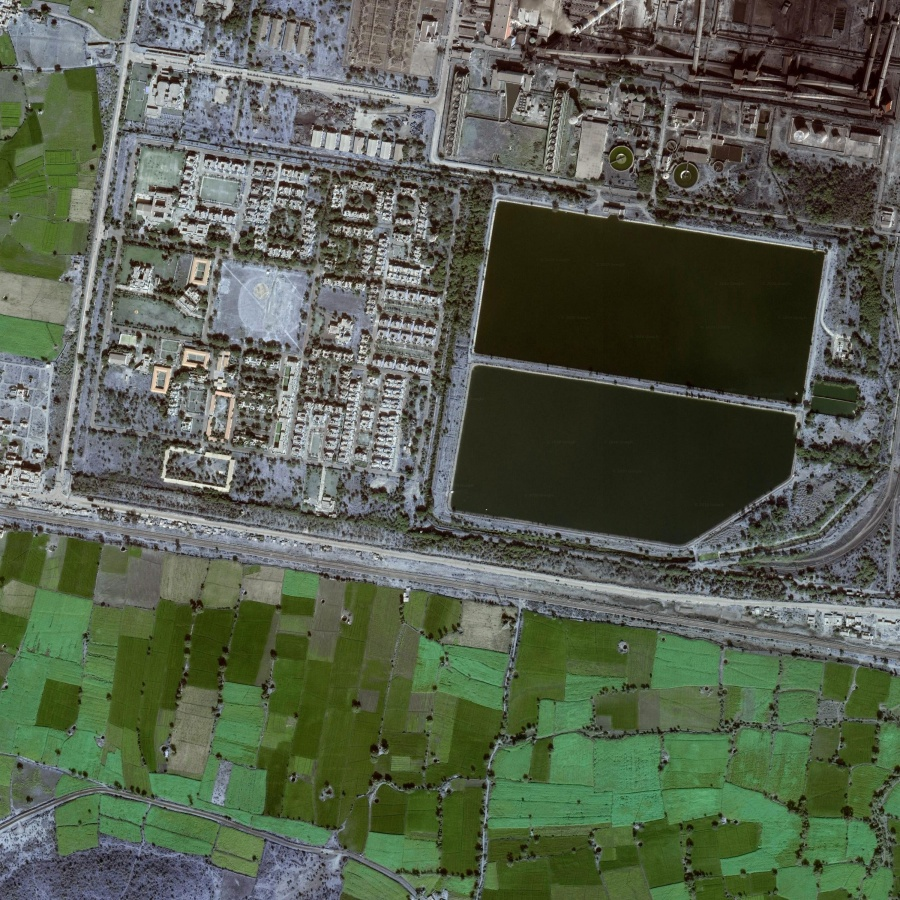PowerPlant: (422, 169, 842, 575)
